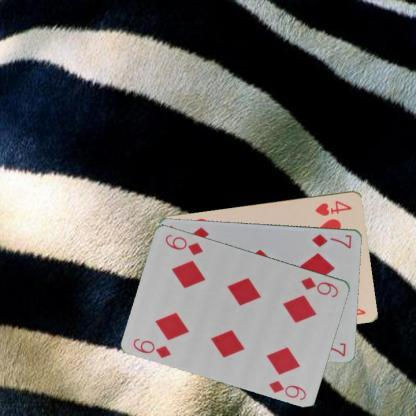4h: (313, 198, 353, 216)
6d: (130, 335, 172, 360), (298, 274, 340, 298)
7d: (310, 232, 354, 250)
